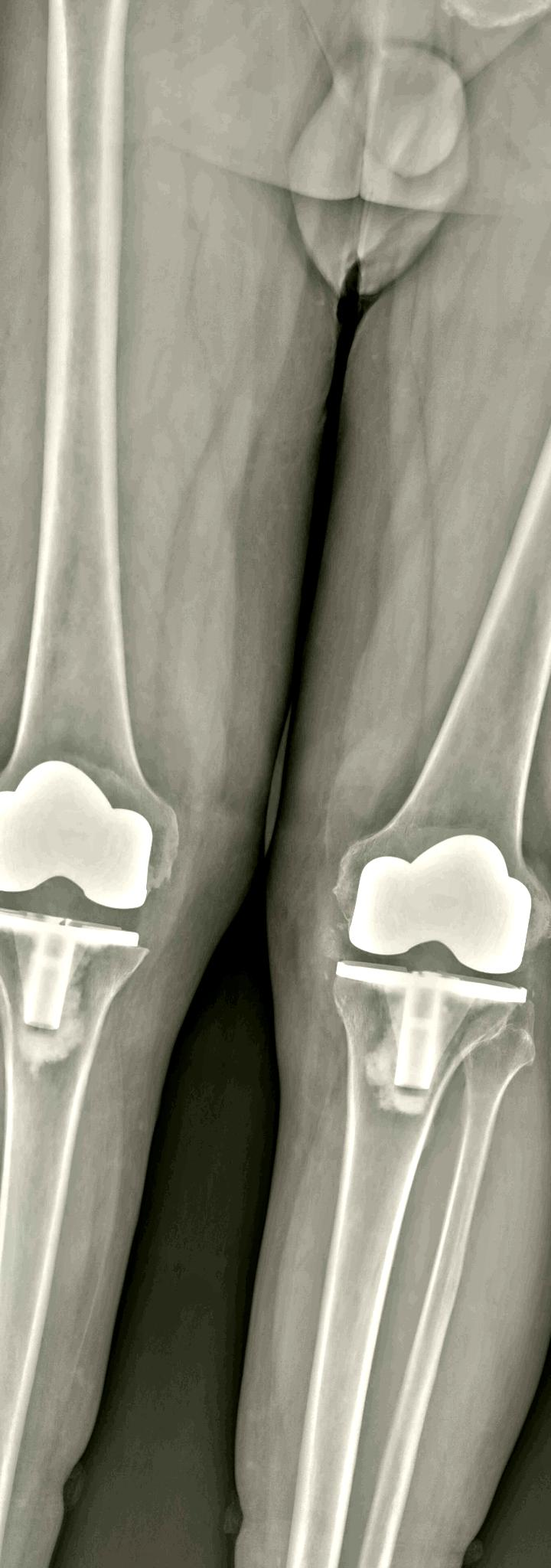Leg Fibula: (358, 1041, 533, 1568)
Leg Tibia: (286, 962, 526, 1568), (0, 910, 145, 1568)
femur: (0, 0, 178, 910), (338, 442, 551, 973)
